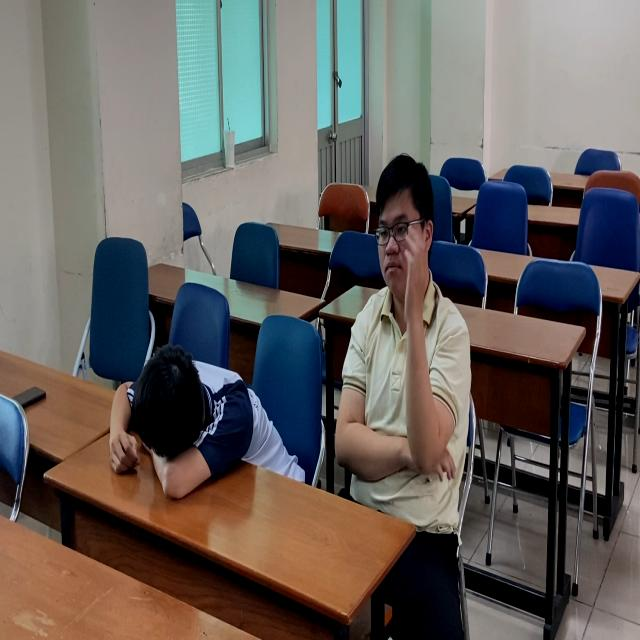raise_hand: (340, 147, 477, 495)
sleep: (94, 340, 305, 509)
